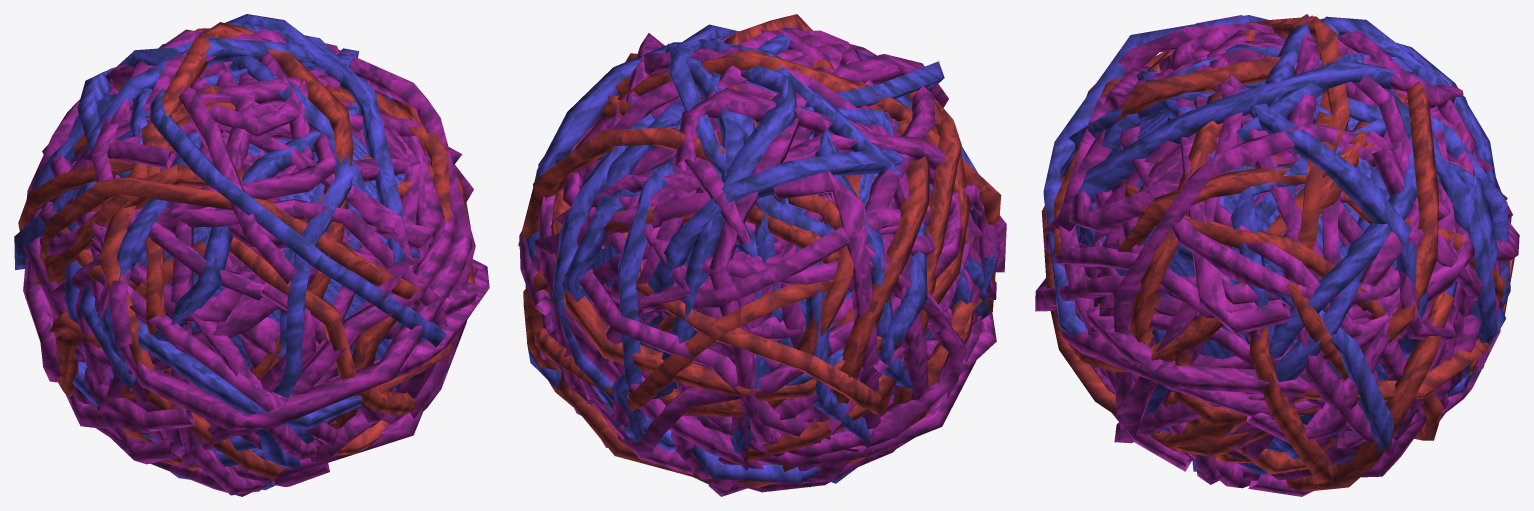
Rendered from ball of yarn.glb.
3 renders of one model, left to right at view 1: azimuth 30°, elevation 25°; view 2: azimuth 150°, elevation 25°; view 3: azimuth 270°, elevation 25°, orthographic. The views are drawn at different scales.
Parts seen in each view (by area): view 1: BézierCurve.001, Cube.001; view 2: BézierCurve.001, Cube.001; view 3: BézierCurve.001, Cube.001.
Boxes of the visible parts, left/top/right/bottom form: BézierCurve.001: left=14, top=14, right=489, bottom=496; Cube.001: left=142, top=68, right=423, bottom=438; BézierCurve.001: left=518, top=14, right=1006, bottom=496; Cube.001: left=552, top=132, right=932, bottom=435; BézierCurve.001: left=1035, top=14, right=1519, bottom=496; Cube.001: left=1078, top=81, right=1396, bottom=452.
Size of the model in its own units: 4.08 by 4.24 by 4.1.
3 materials, 3 textured.
